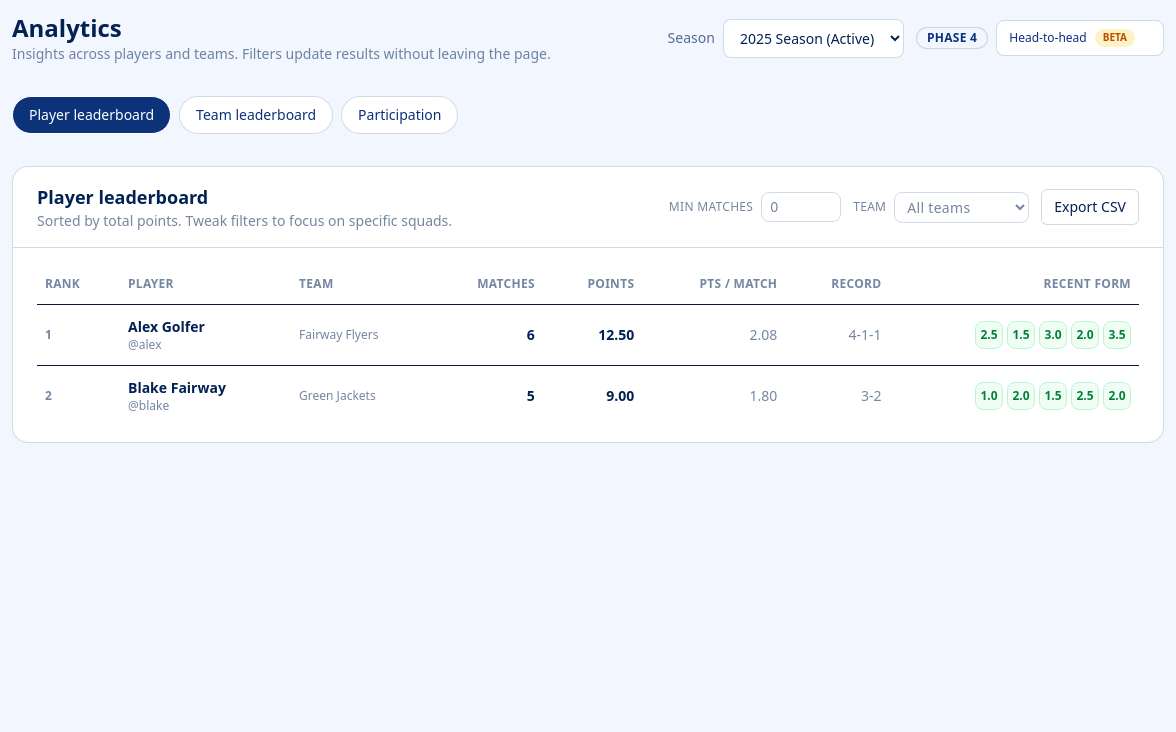
AnalyticsClient › exposes head-to-head analytics behind the commissioner beta toggle
Expected: the text "Alex Golfer" is shown, [128,317,205,336]
Click the button "Head-to-head Beta" at {"x": 1080, "y": 38}, box [996,20,1164,56]
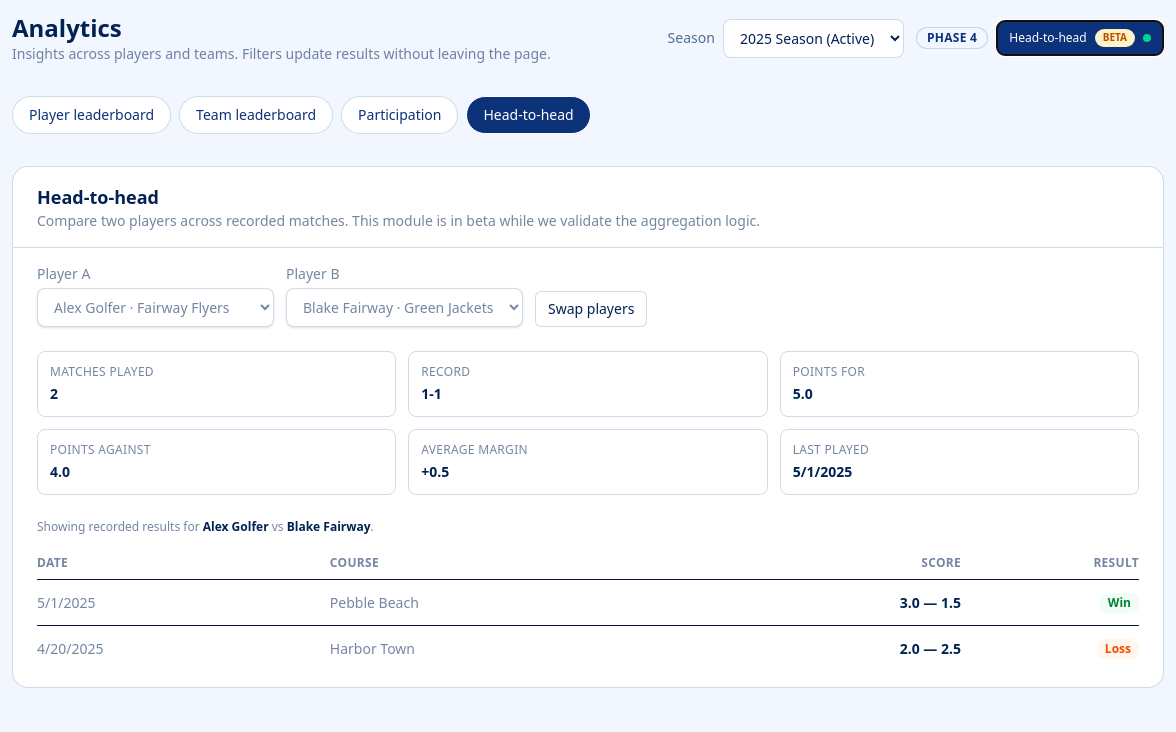
Expected: the text "Matches played" is shown, [50,363,154,380]
Expected: the button "Swap players" is shown, [535,291,647,327]
Expected: the text "3.0 — 1.5" is shown, [702,580,977,626]
